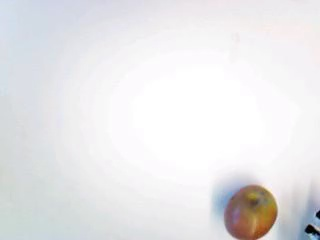apple: (221, 185, 277, 240)
